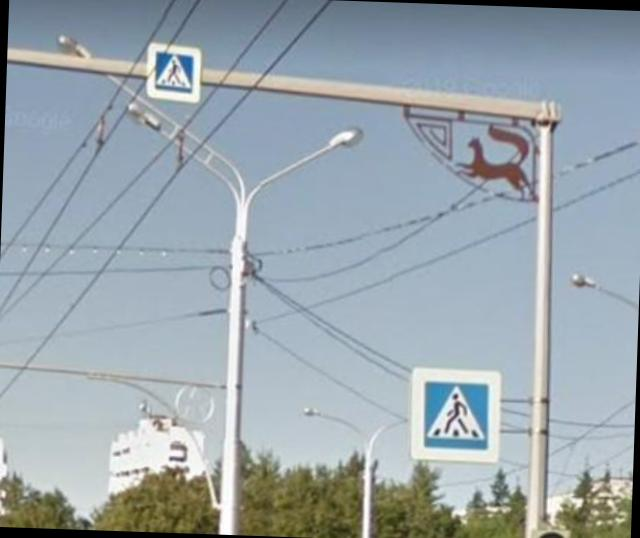crosswalk-sign: (410, 367, 503, 464), (146, 42, 204, 105)
